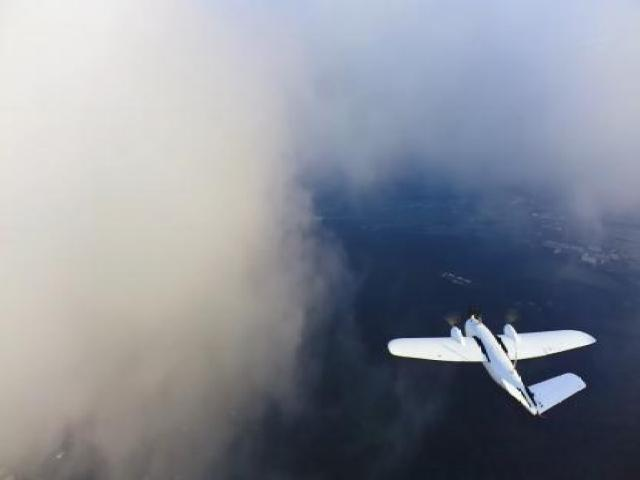uav: (383, 313, 600, 422)
